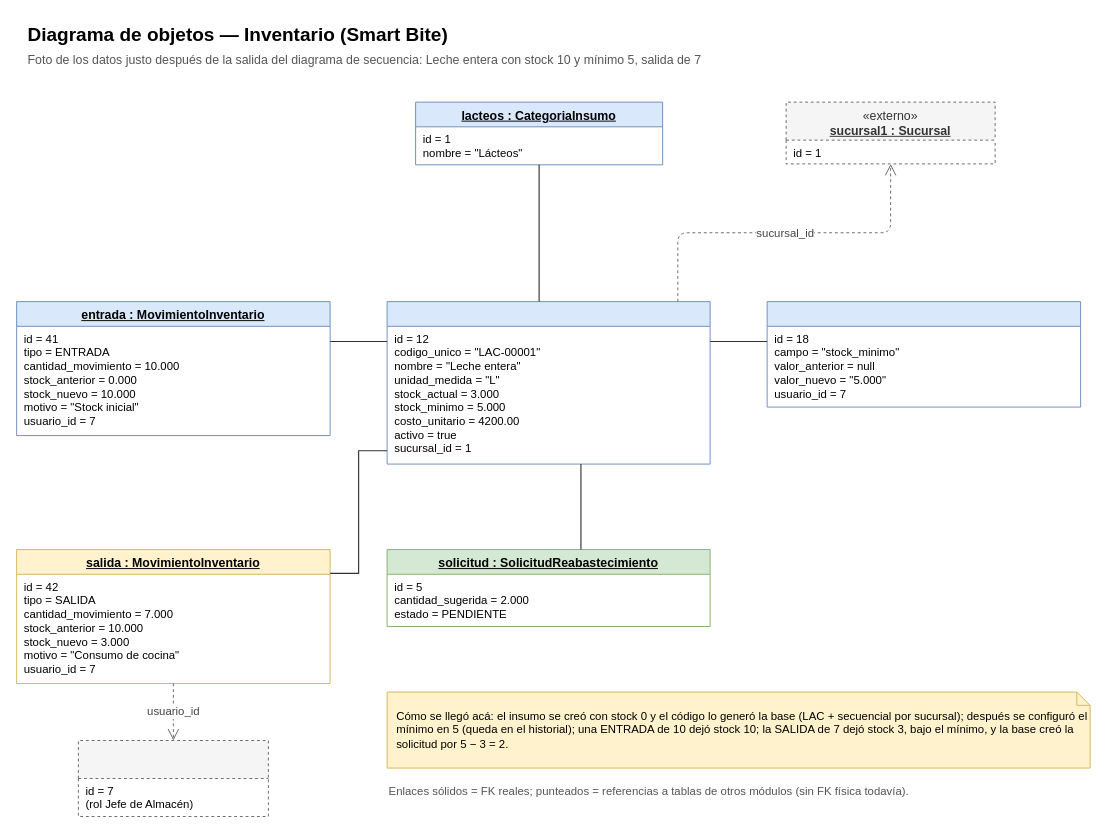
The diagram is 1107 pixels wide and 835 high, and some of its shapes have lost their labels. Here are the shapes that lost their labels. From the top down, the box of each, then its label:
(766, 301, 1081, 407): cambio : ItemInventarioHistorial
(386, 301, 710, 464): leche : ItemInventario
(77, 740, 268, 817): «externo» jefe : Usuario
